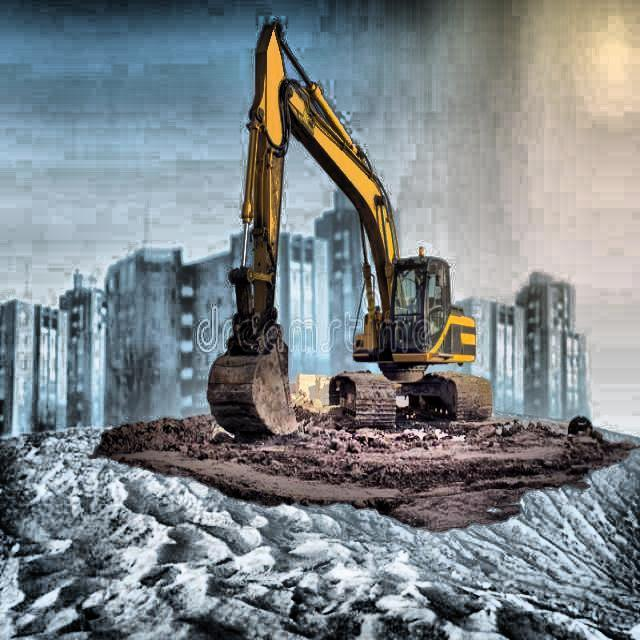excavator: (206, 20, 497, 442)
